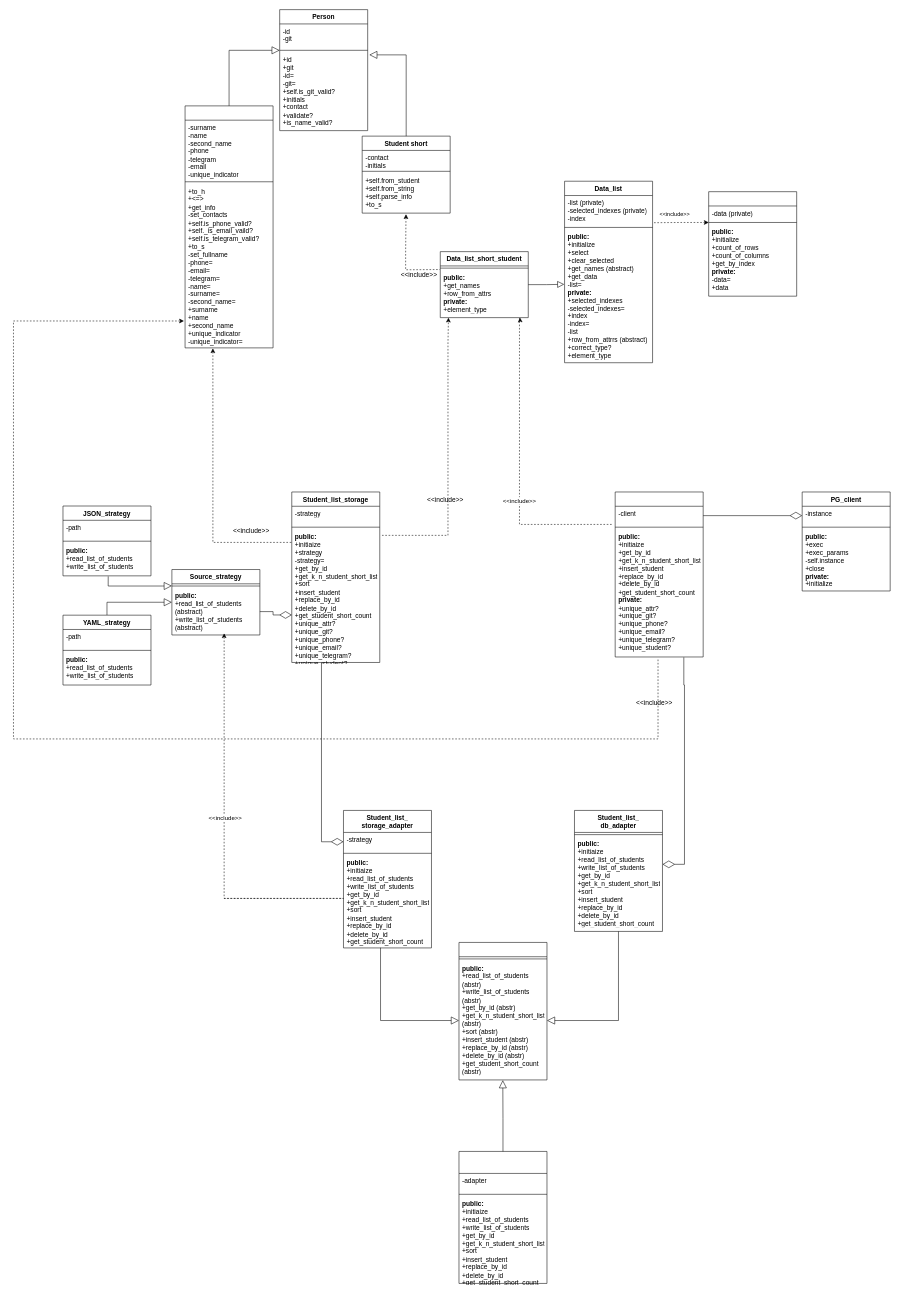
The diagram is 900 pixels wide and 1296 high, and some of its shapes have lost their labels. The shapes that lost their labels are listed below. From the top down, each one's box as (x1, y1, x2, y2) in pixels, then its label:
(185, 105, 273, 348): Student
(708, 191, 797, 296): Data_table
(615, 491, 703, 657): Student_list_DB
(458, 942, 547, 1080): Student_list_interface
(458, 1151, 547, 1283): Student_list
